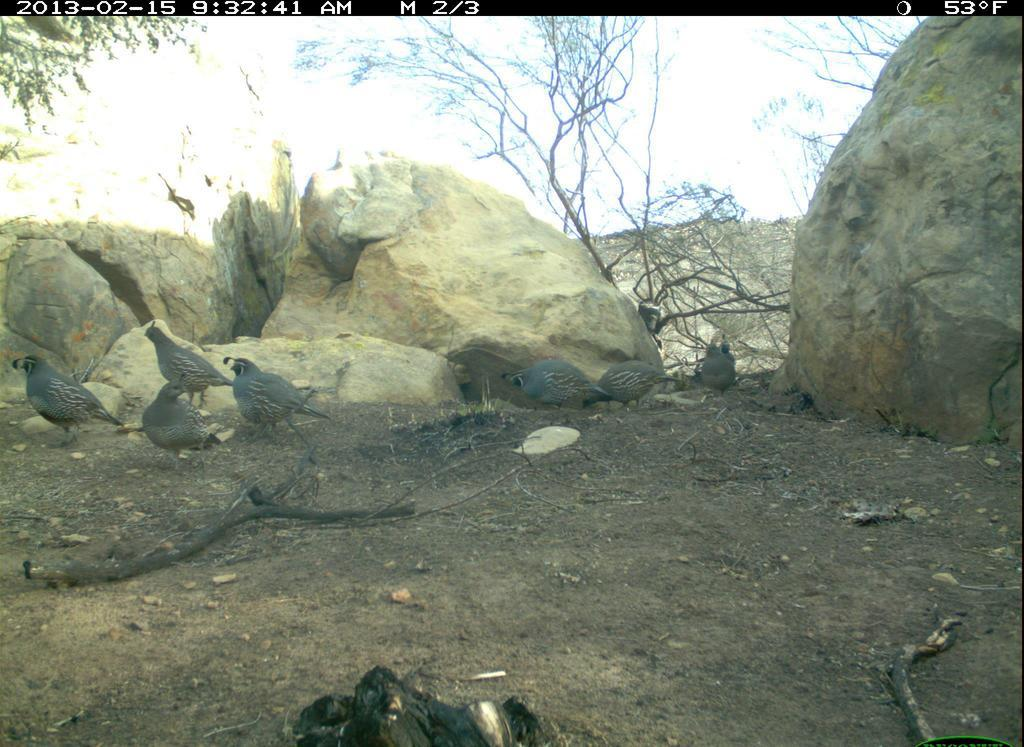bird: (15, 350, 126, 446), (219, 349, 336, 432), (134, 386, 231, 468), (143, 314, 231, 396), (496, 350, 597, 420), (587, 351, 670, 422), (696, 319, 744, 395)
